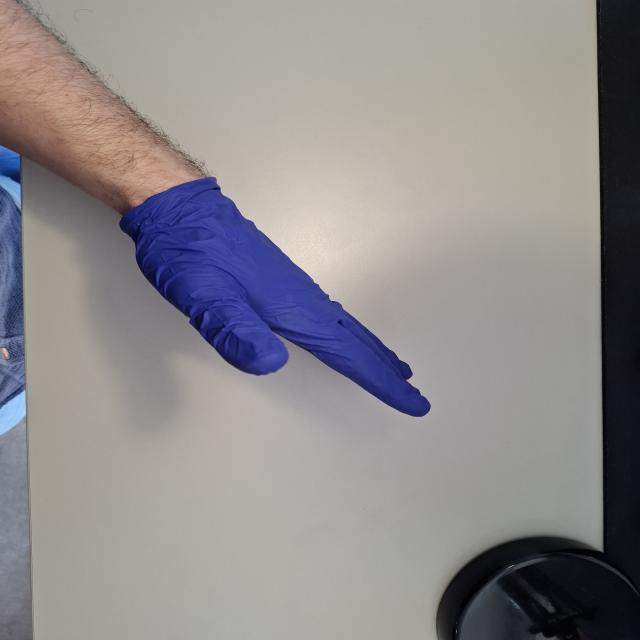glove_on: (112, 175, 436, 419)
